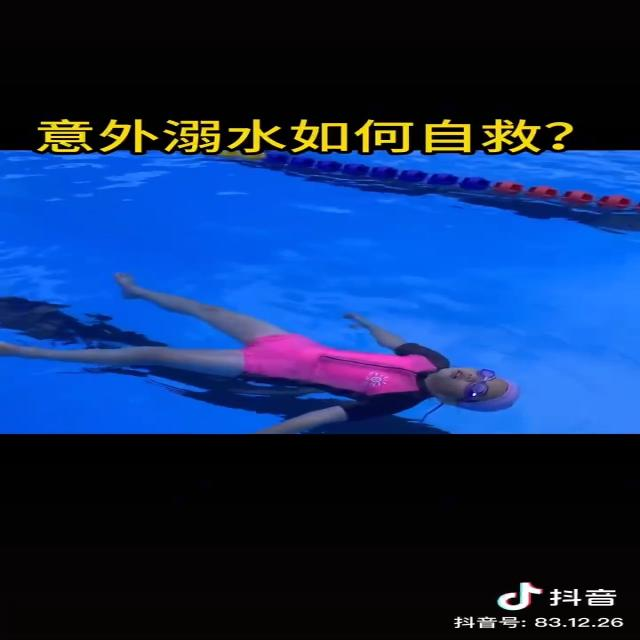Drowning: (4, 273, 520, 434)
